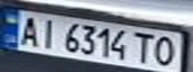1: (93, 25, 112, 58)
3: (78, 22, 96, 56)
4: (109, 27, 133, 61)
6: (60, 20, 84, 54)
A: (15, 14, 42, 47)
I: (36, 16, 60, 50)
O: (151, 34, 178, 69)
T: (130, 30, 157, 64)
